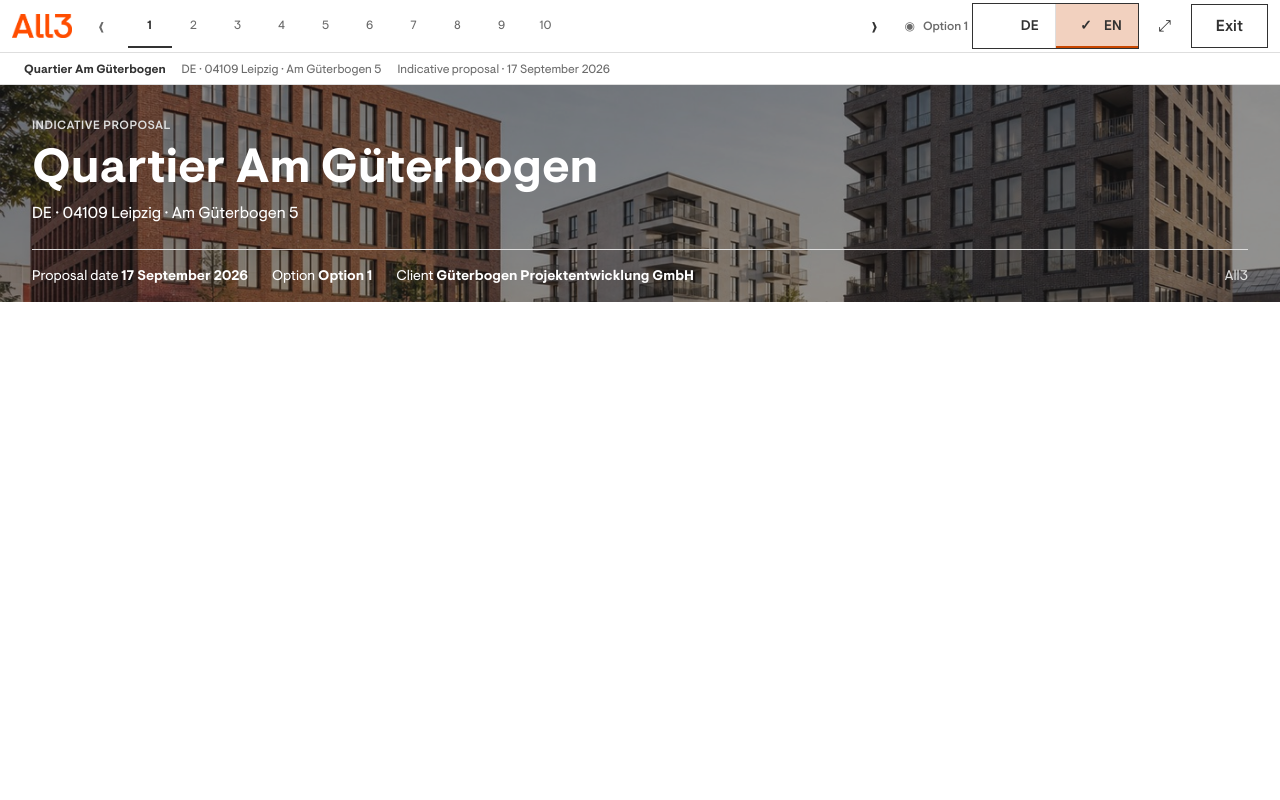
ACCEPT-03 · the client lead metric states its unit › keeps unit and denominator under EN and re-typesets only the numeral
Click the button "5" at x=326, y=26, box [304, 4, 348, 48]
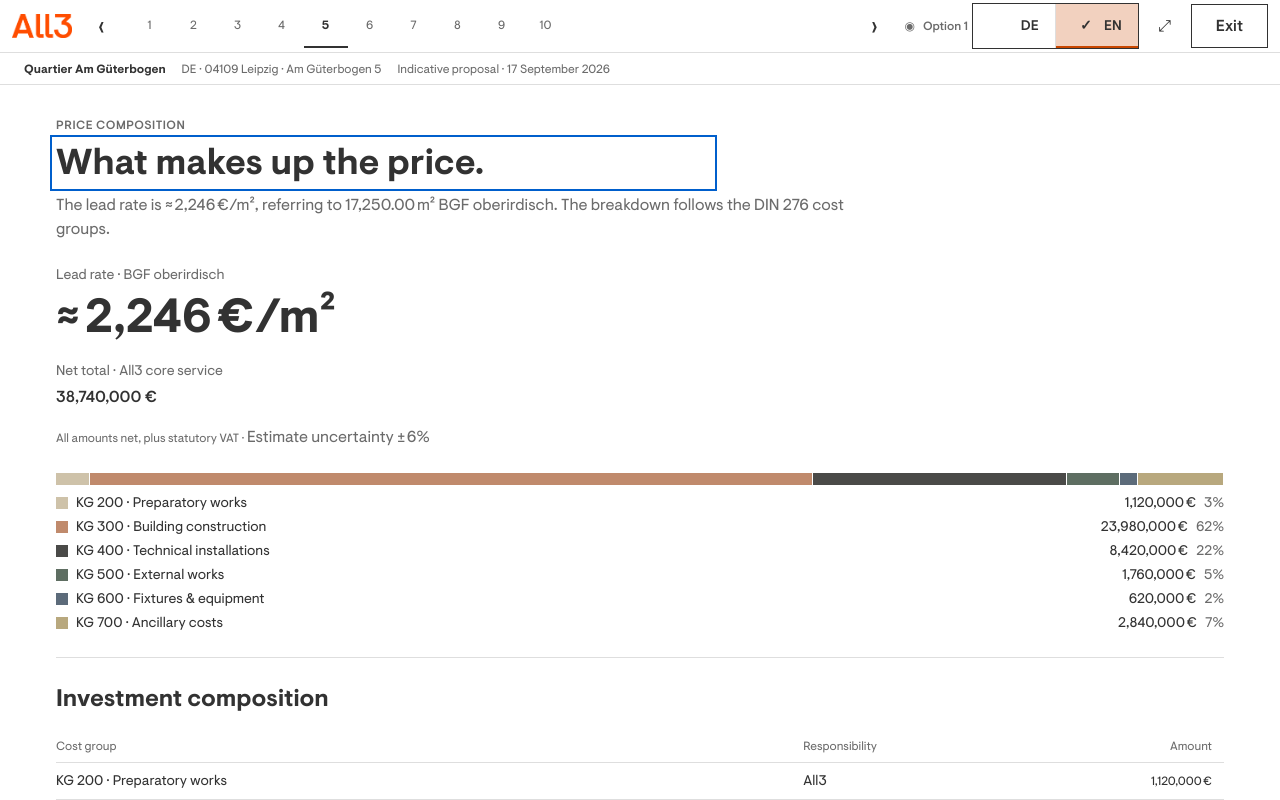
Now the text with class "a3-cp-metric-label" shows "Lead rate", box [56, 265, 224, 284]
Now the text with class "a3-cp-metric-label" reads "Lead rate · BGF oberirdisch", box [56, 265, 224, 284]
Now the text with class "a3-cp-metric-co" shows "€/m²", box [56, 285, 336, 349]
